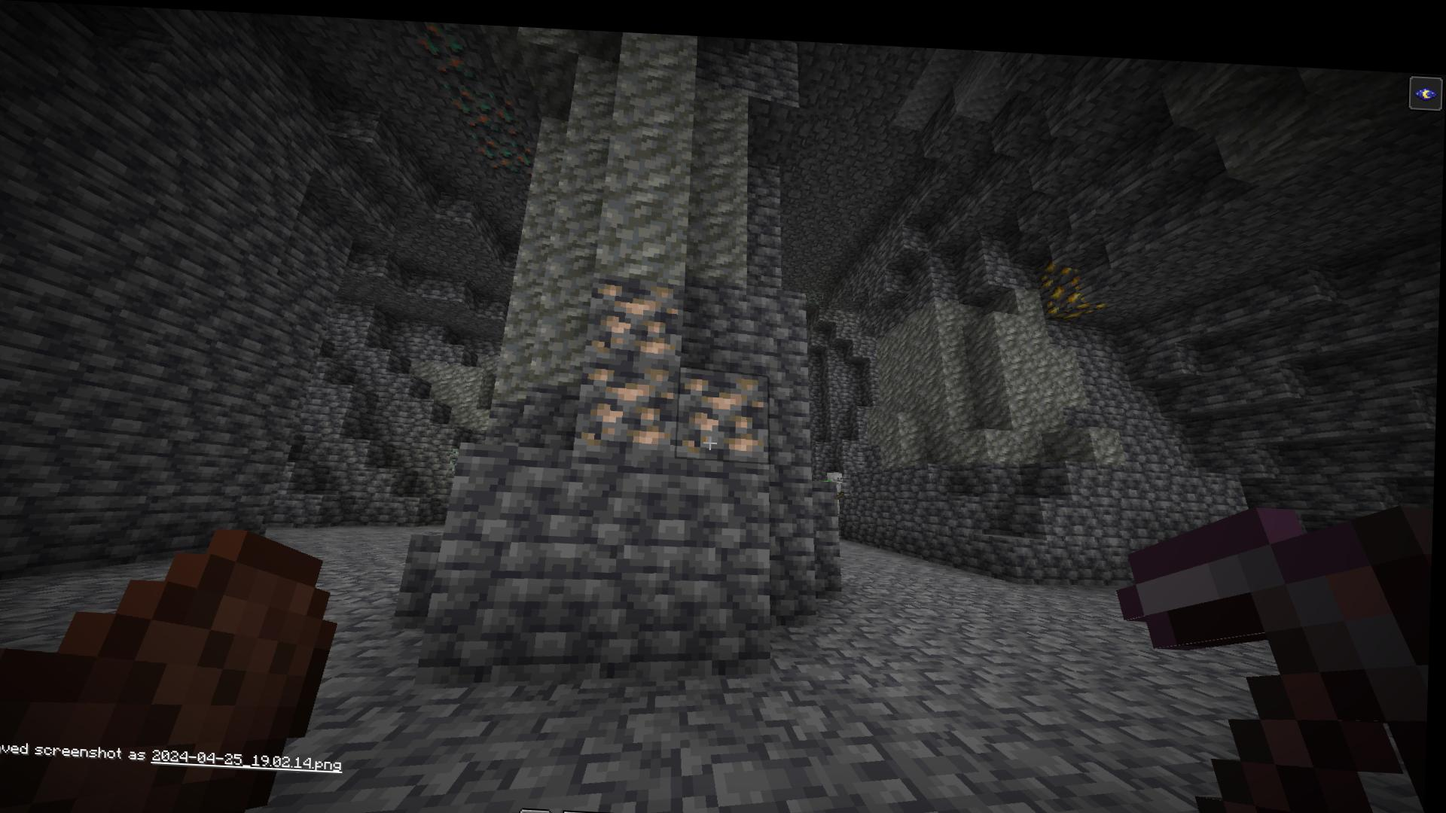gold ore: (1039, 246, 1107, 308)
iron ore: (679, 357, 777, 456), (578, 347, 681, 441), (586, 268, 688, 351)
